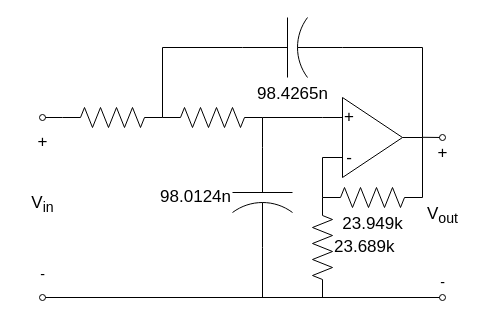
Image size: 484x324. Some labels were removed from this diagram. Here are the shapes that lost their labels. From the top down, the box of each, then its label:
(62, 106, 162, 128): 10.0280k
(162, 106, 262, 128): 20.083k
